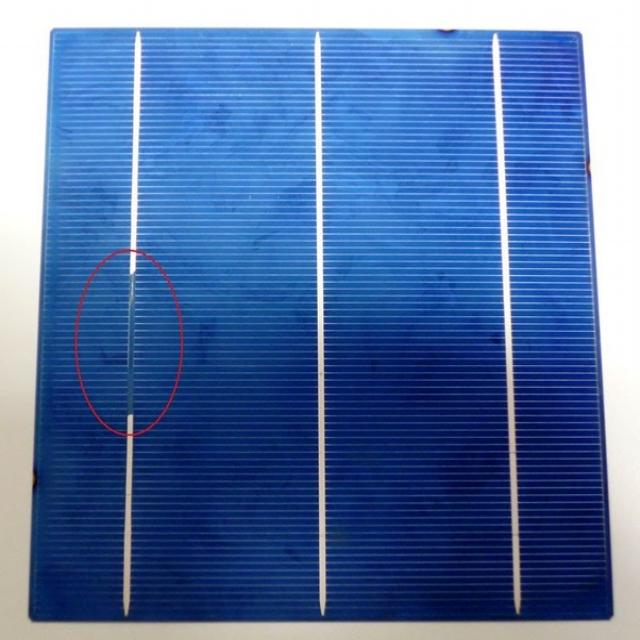shadow: (106, 270, 166, 430)
